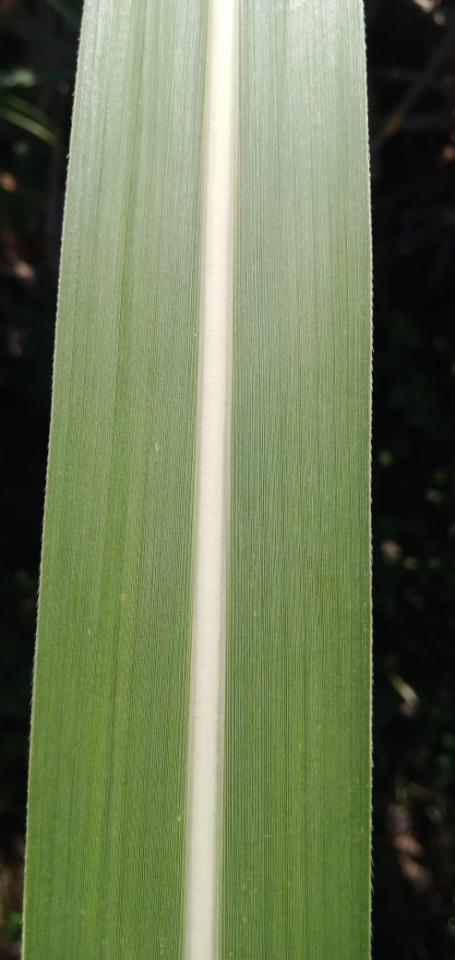Healthy: (24, 0, 371, 959)
